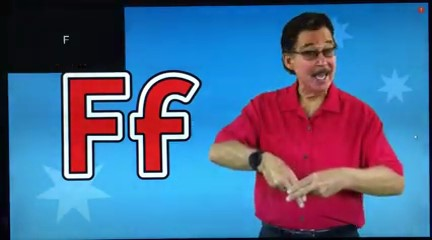F: (263, 148, 349, 210)
